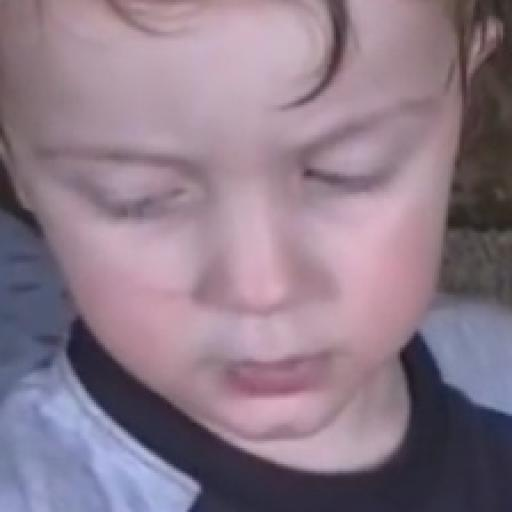Autism: (2, 0, 496, 451)
